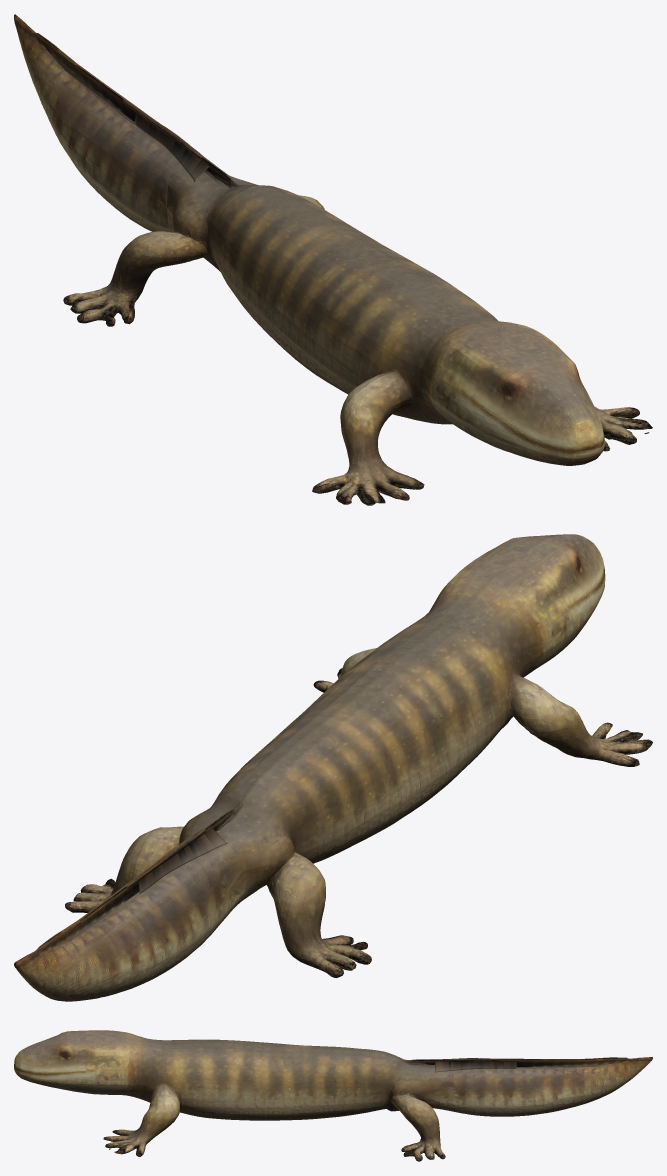
The picture shows the model from 3 angles, top to bottom: view 1: azimuth 30°, elevation 25°; view 2: azimuth 150°, elevation 25°; view 3: azimuth 270°, elevation 25°; orthographic projection. The views are drawn at different scales.
Visible parts, largest first — view 1: world, Supported membrane -1; view 2: world, Supported membrane -1; view 3: world, Supported membrane 1.
Boxes of the visible parts, <box> form: world: <box>14,14,652,505</box>; Supported membrane -1: <box>134,113,209,181</box>; world: <box>14,534,652,1001</box>; Supported membrane -1: <box>138,828,227,893</box>; world: <box>14,1030,652,1161</box>; Supported membrane 1: <box>435,1061,516,1072</box>.
Bounding box in the file's own units: 0.4588 × 0.2121 × 1.4.
Materials: 3 (3 with a texture image).
